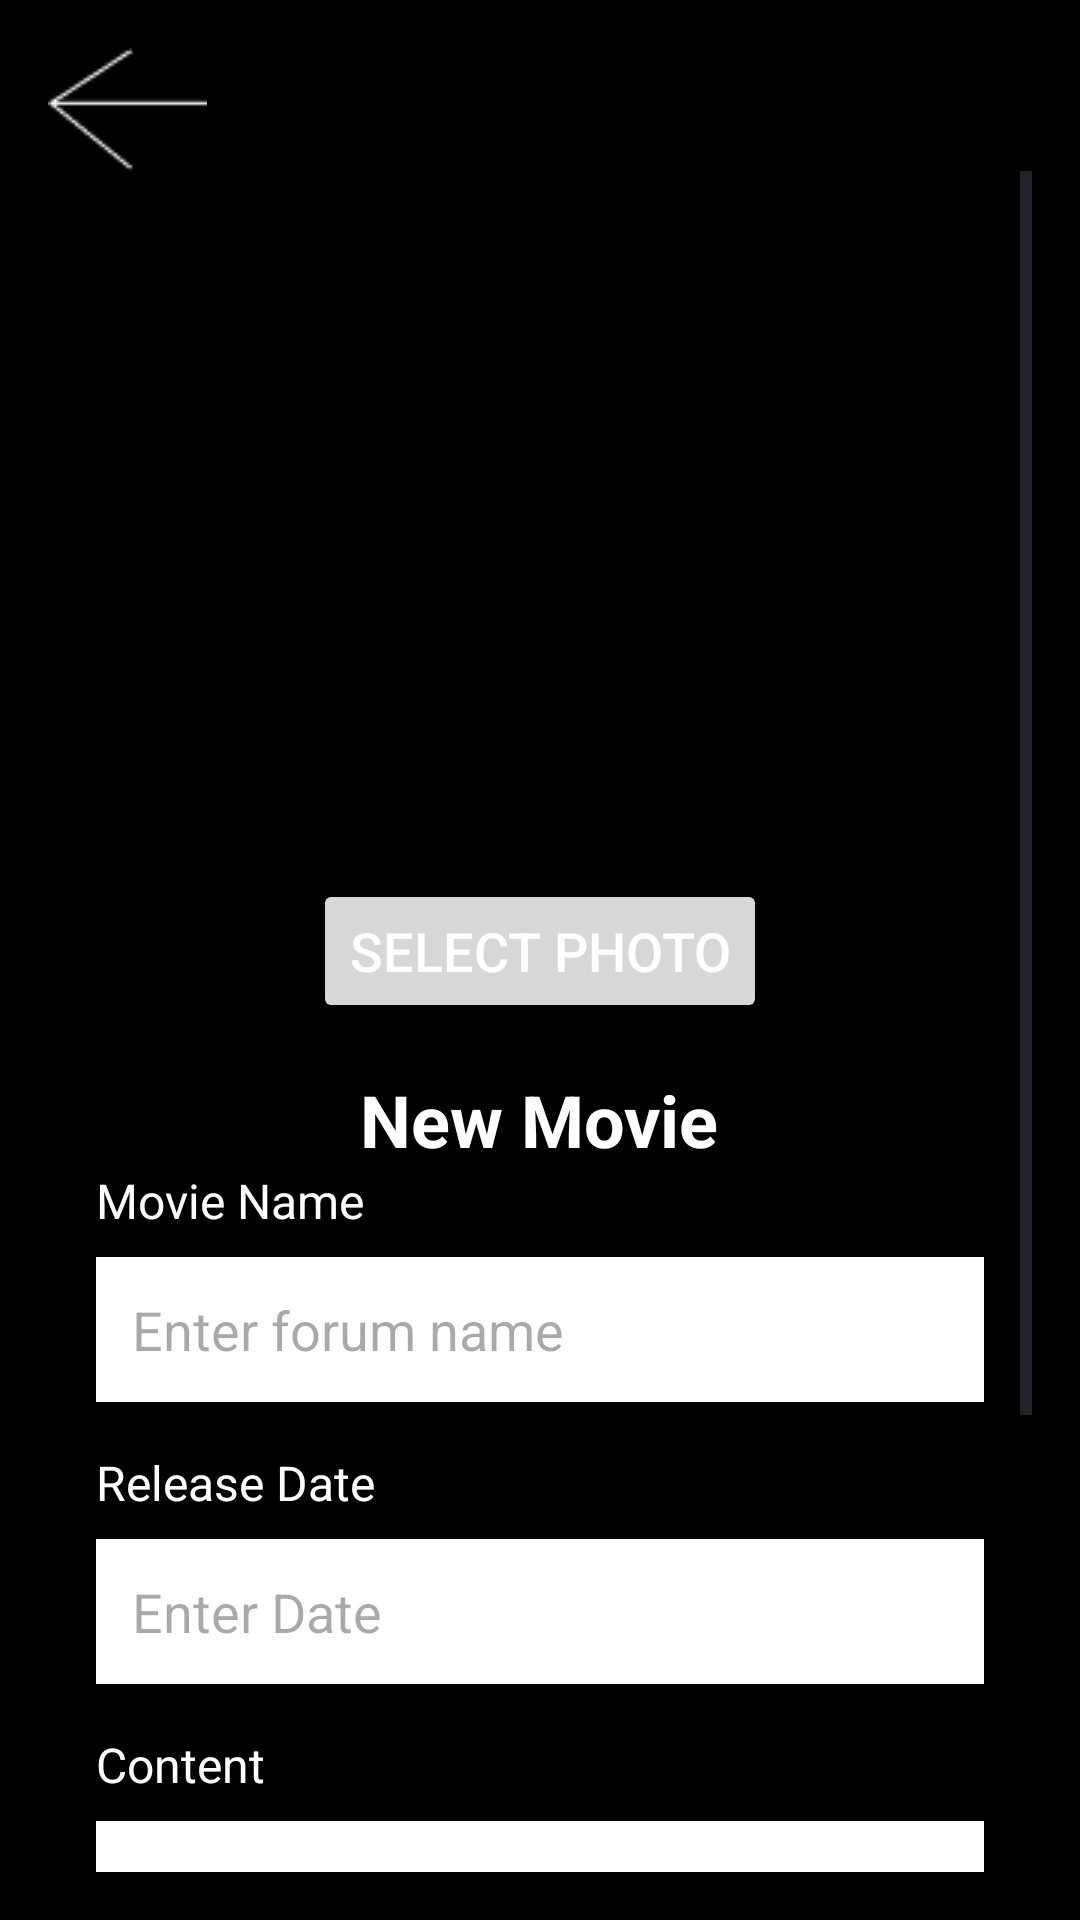

Where to tap for icons on this 1080px×1920px app screen, as (x,y):
Back: (127,109)
